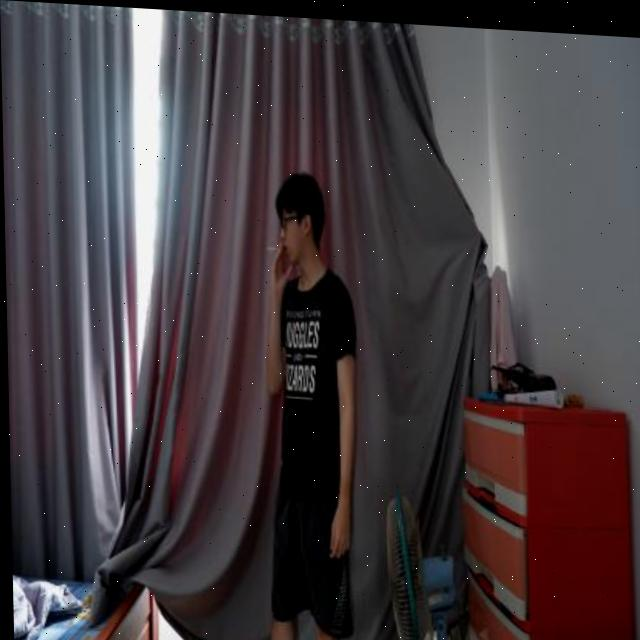cigarette: (266, 242, 279, 249)
